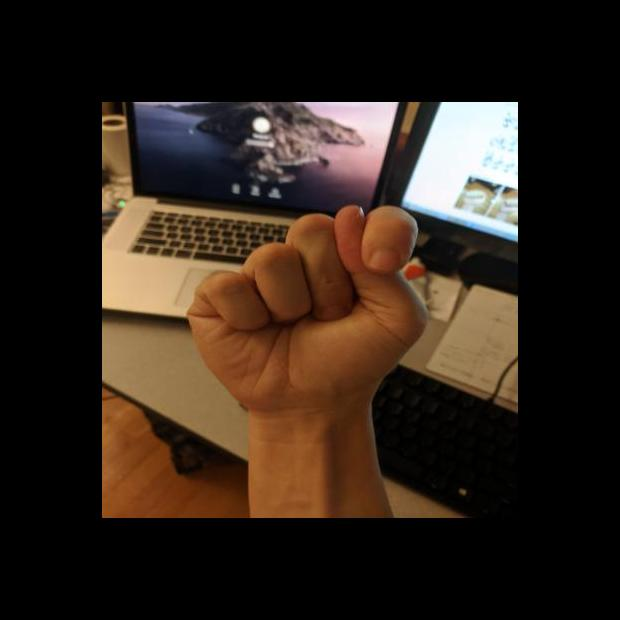S: (180, 199, 434, 419)
